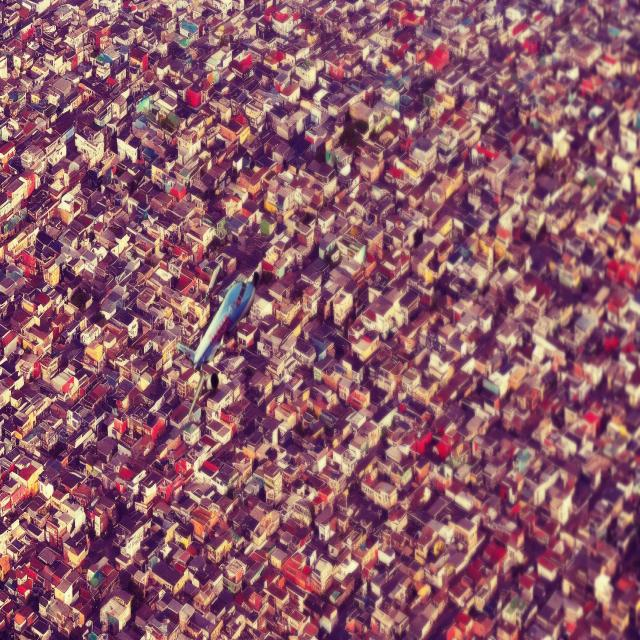airplane: (176, 281, 255, 418)
